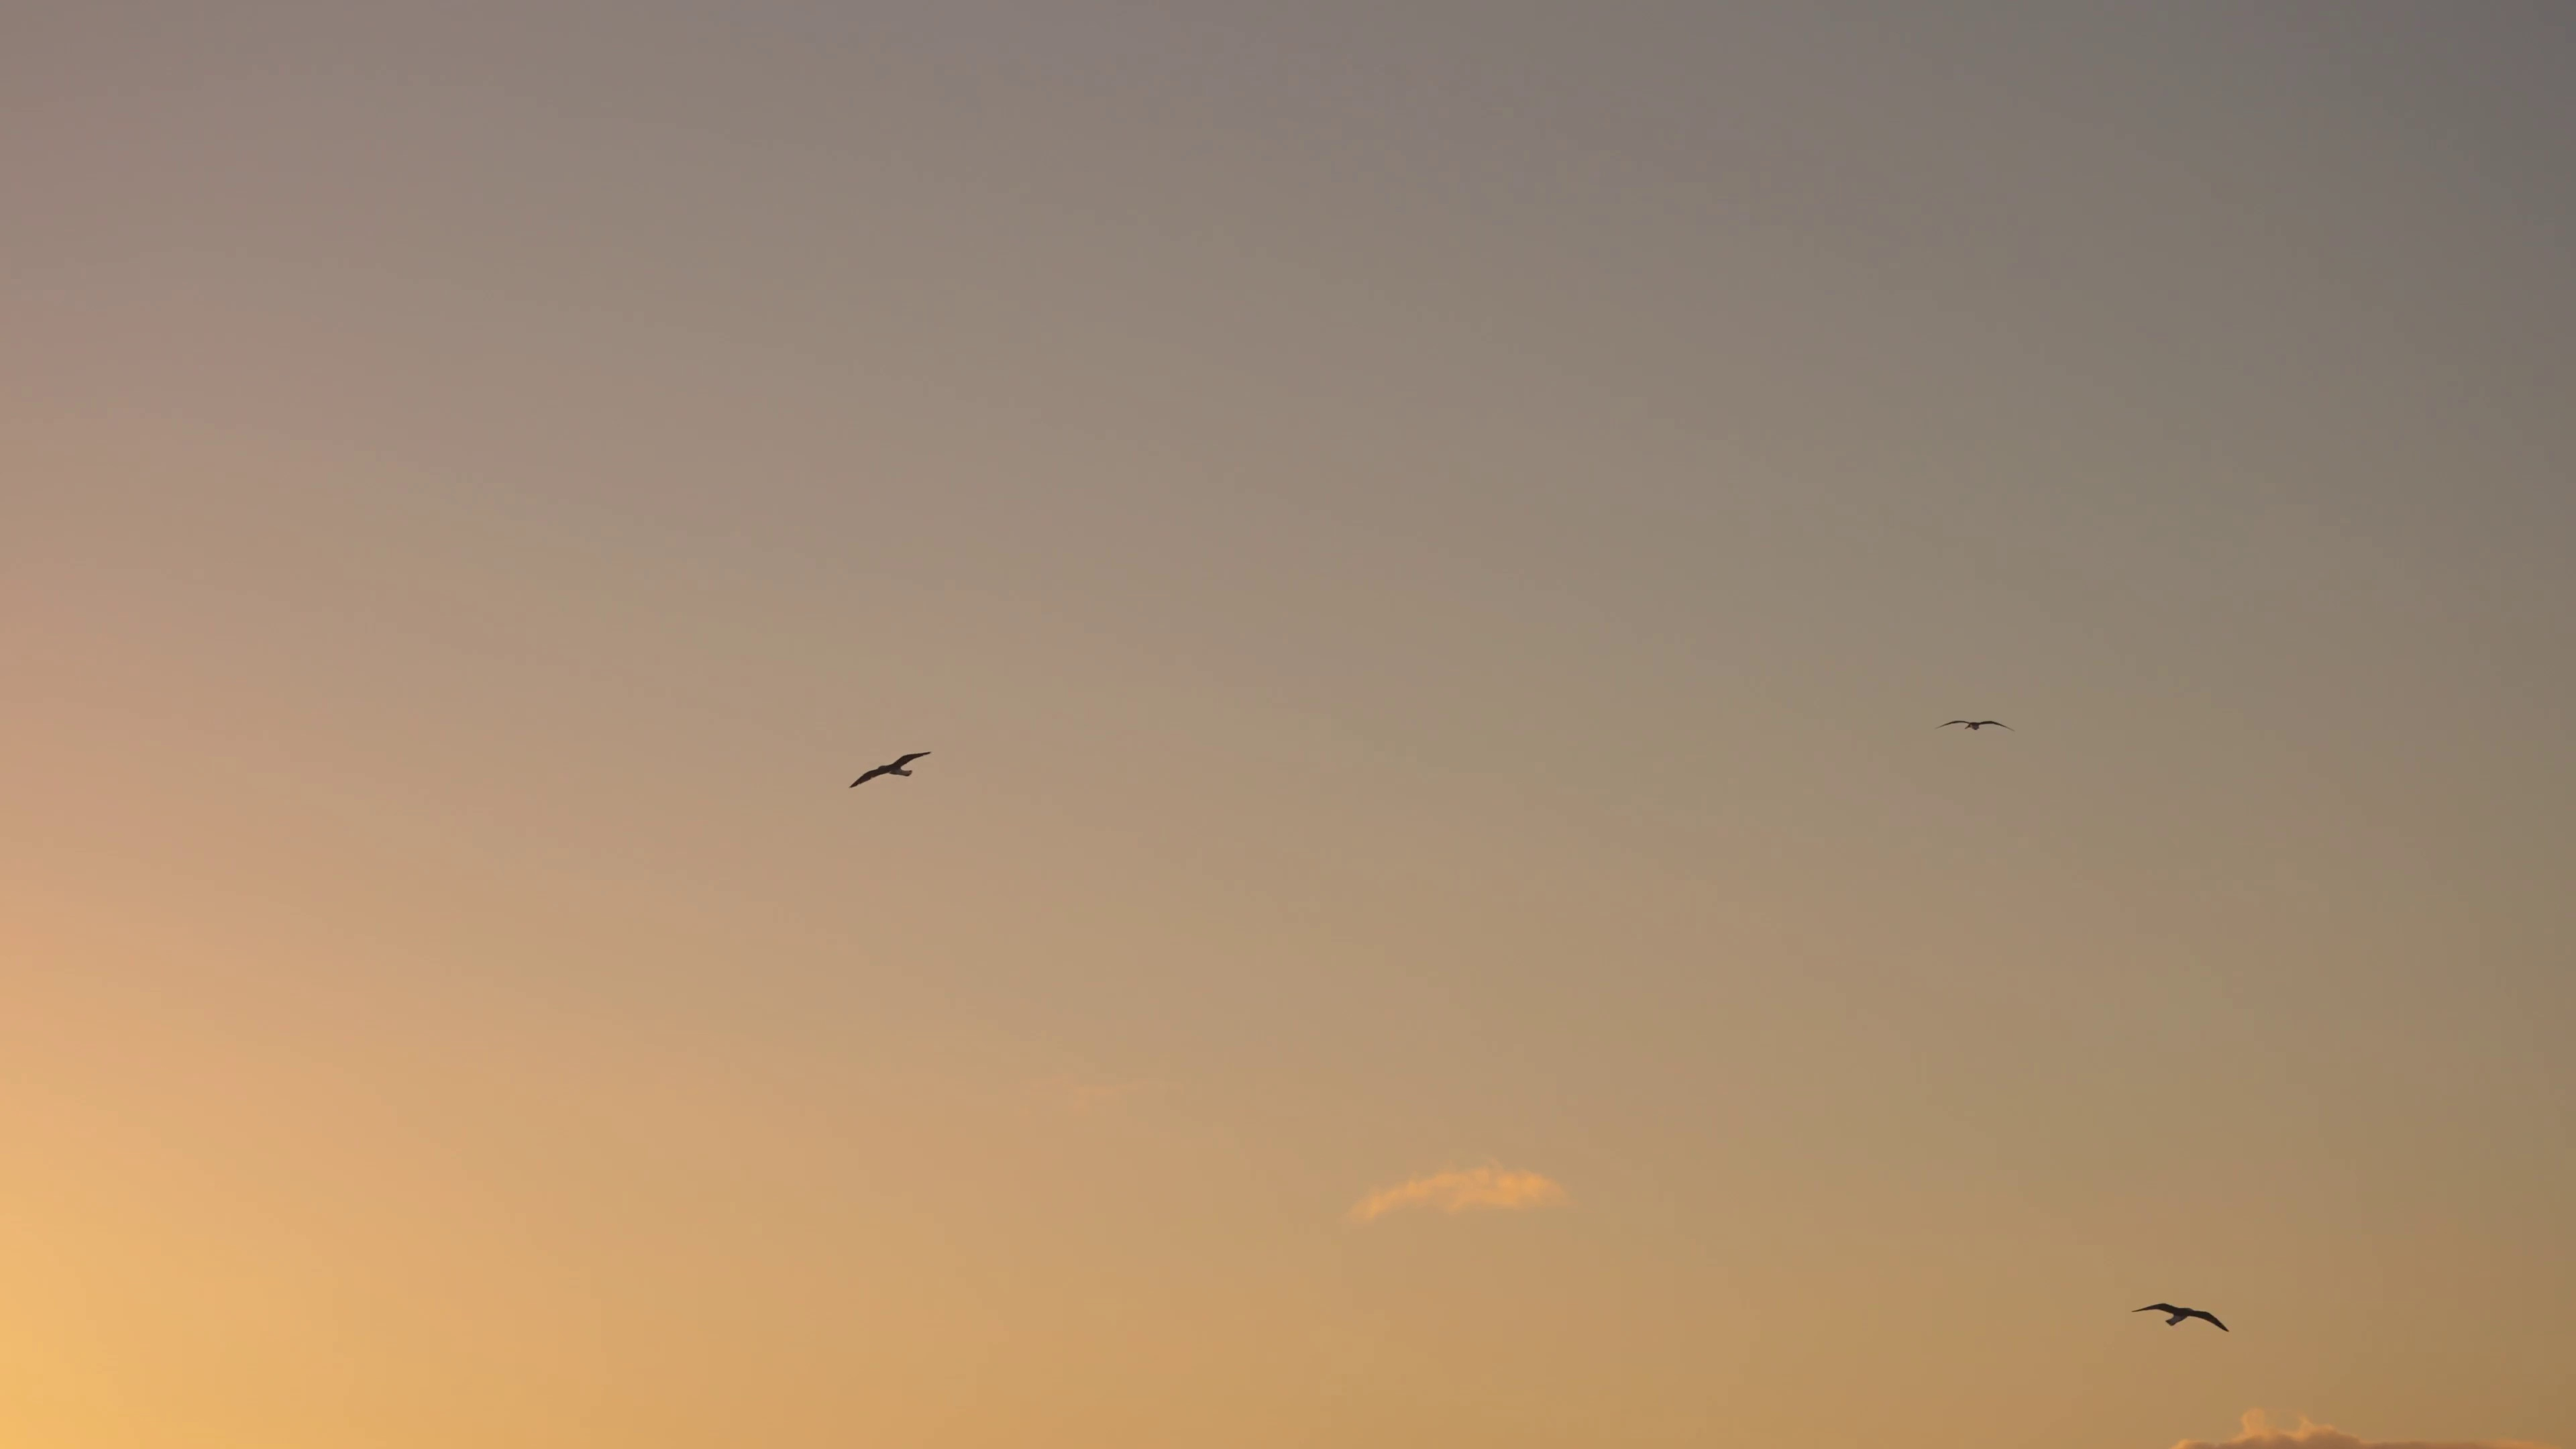bird: (846, 748, 931, 789), (2134, 1304, 2226, 1334), (1937, 718, 2012, 732)
